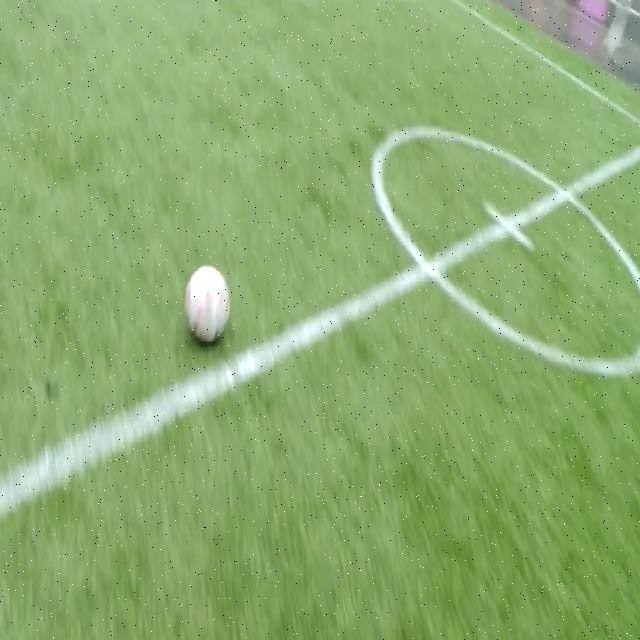ball: (185, 266, 229, 344)
